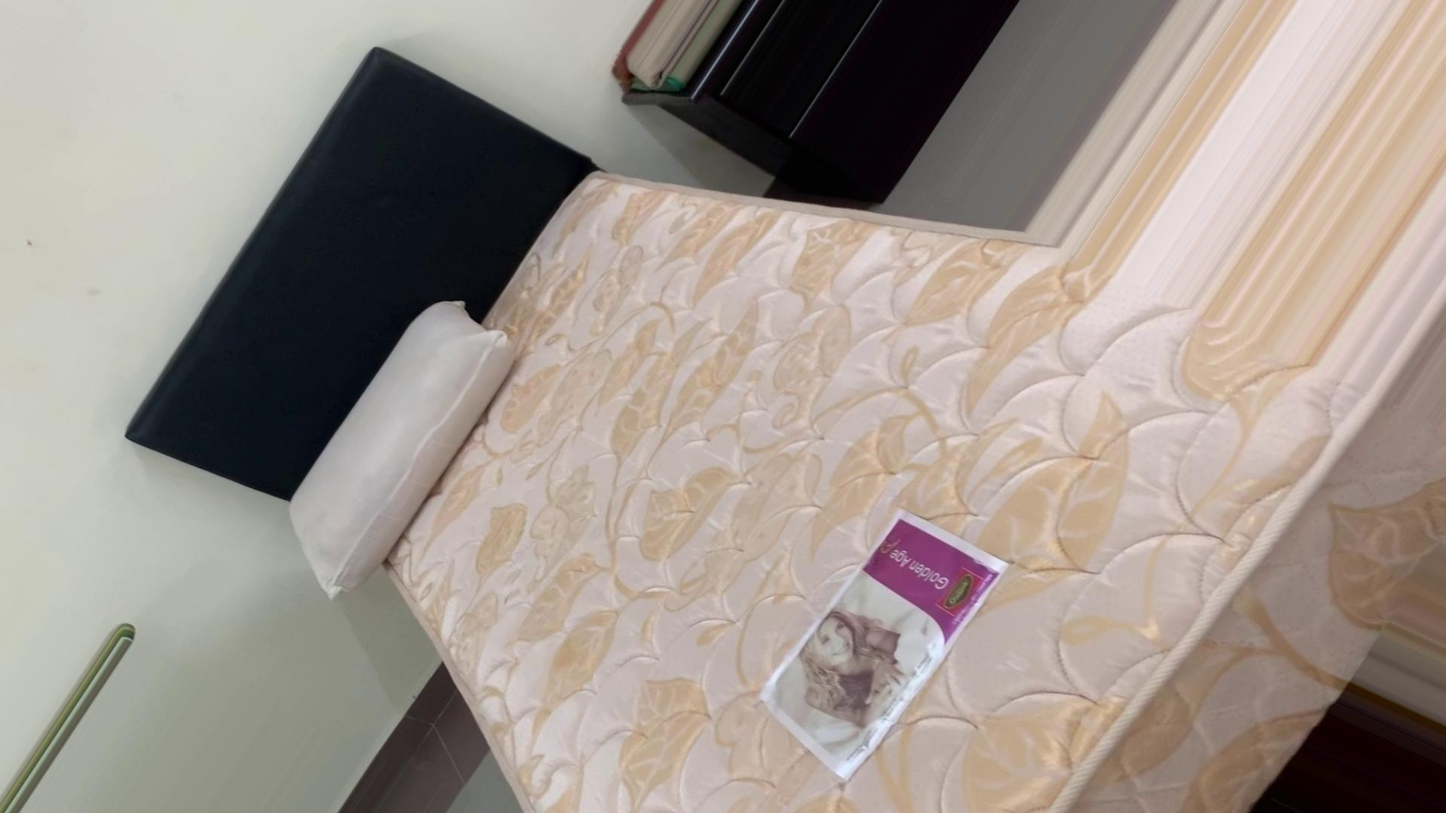bed: (119, 51, 1446, 813)
table: (618, 0, 1081, 207)
